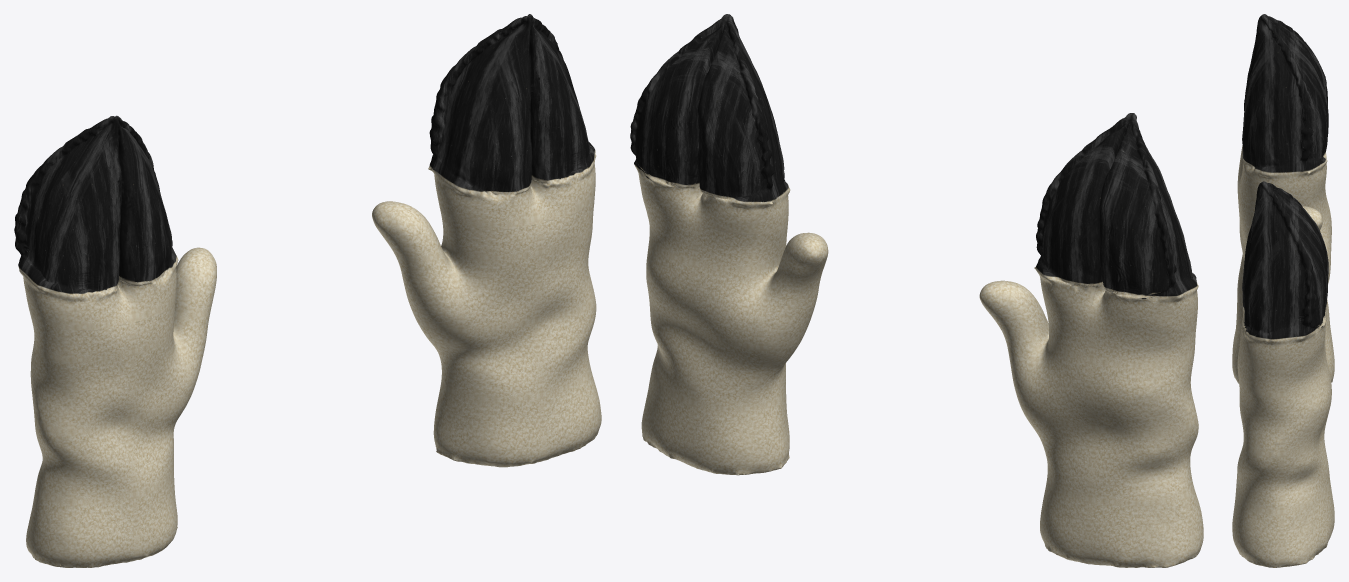
File: Glove_pair.glb
The picture shows the model from 3 angles, left to right: view 1: azimuth 30°, elevation 25°; view 2: azimuth 150°, elevation 25°; view 3: azimuth 270°, elevation 25°; orthographic projection. The views are drawn at different scales.
Parts seen in each view (by area): view 1: Glove_R_Palm, Glove_L_Palm, Glove_R_Toe_IndexMiddle, Glove_L_Toe_RingLittle, Glove_L_Toe_IndexMiddle, Glove_R_Toe_RingLittle; view 2: Glove_L_Palm, Glove_R_Palm, Glove_L_Toe_RingLittle, Glove_R_Toe_IndexMiddle, Glove_L_Toe_IndexMiddle, Glove_R_Toe_RingLittle; view 3: Glove_R_Palm, Glove_L_Toe_IndexMiddle, Glove_R_Toe_RingLittle, Glove_L_Palm, Glove_R_Toe_IndexMiddle, Glove_L_Toe_RingLittle.
Part boxes in pixels (x1=…): Glove_R_Palm: x1=372, y1=197, x2=601, y2=467; Glove_L_Palm: x1=26, y1=247, x2=216, y2=567; Glove_R_Toe_IndexMiddle: x1=428, y1=14, x2=540, y2=230; Glove_L_Toe_RingLittle: x1=14, y1=120, x2=132, y2=330; Glove_L_Toe_IndexMiddle: x1=104, y1=115, x2=178, y2=322; Glove_R_Toe_RingLittle: x1=530, y1=17, x2=596, y2=223; Glove_L_Palm: x1=979, y1=280, x2=1203, y2=567; Glove_R_Palm: x1=641, y1=202, x2=828, y2=475; Glove_L_Toe_RingLittle: x1=1089, y1=122, x2=1198, y2=329; Glove_R_Toe_IndexMiddle: x1=695, y1=14, x2=790, y2=234; Glove_L_Toe_IndexMiddle: x1=1034, y1=113, x2=1139, y2=319; Glove_R_Toe_RingLittle: x1=630, y1=21, x2=717, y2=224; Glove_R_Palm: x1=1232, y1=328, x2=1334, y2=567; Glove_L_Toe_IndexMiddle: x1=1240, y1=14, x2=1328, y2=200; Glove_R_Toe_RingLittle: x1=1238, y1=189, x2=1327, y2=368; Glove_L_Palm: x1=1232, y1=171, x2=1334, y2=383; Glove_R_Toe_IndexMiddle: x1=1240, y1=181, x2=1328, y2=341; Glove_L_Toe_RingLittle: x1=1238, y1=17, x2=1327, y2=178.
Size of the model in its own units: 0.3314 by 0.247 by 0.0633.
Materials: 1 (1 with a texture image).
